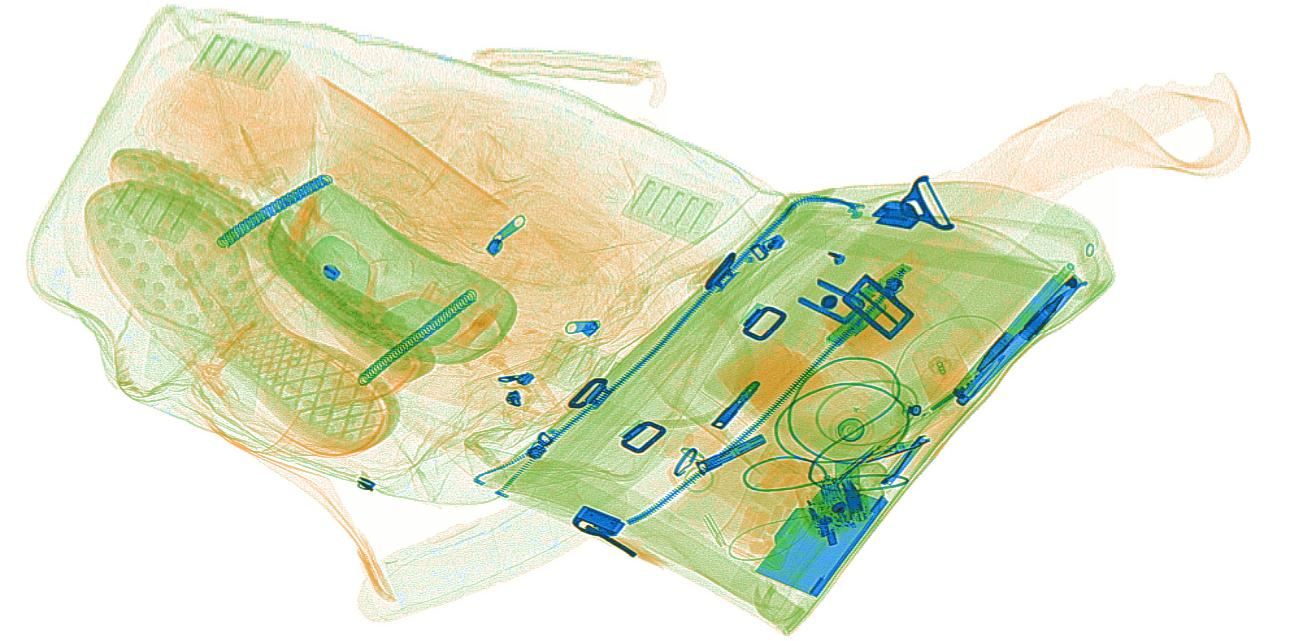plasticBottleWithaNozzle: (909, 332, 977, 421)
